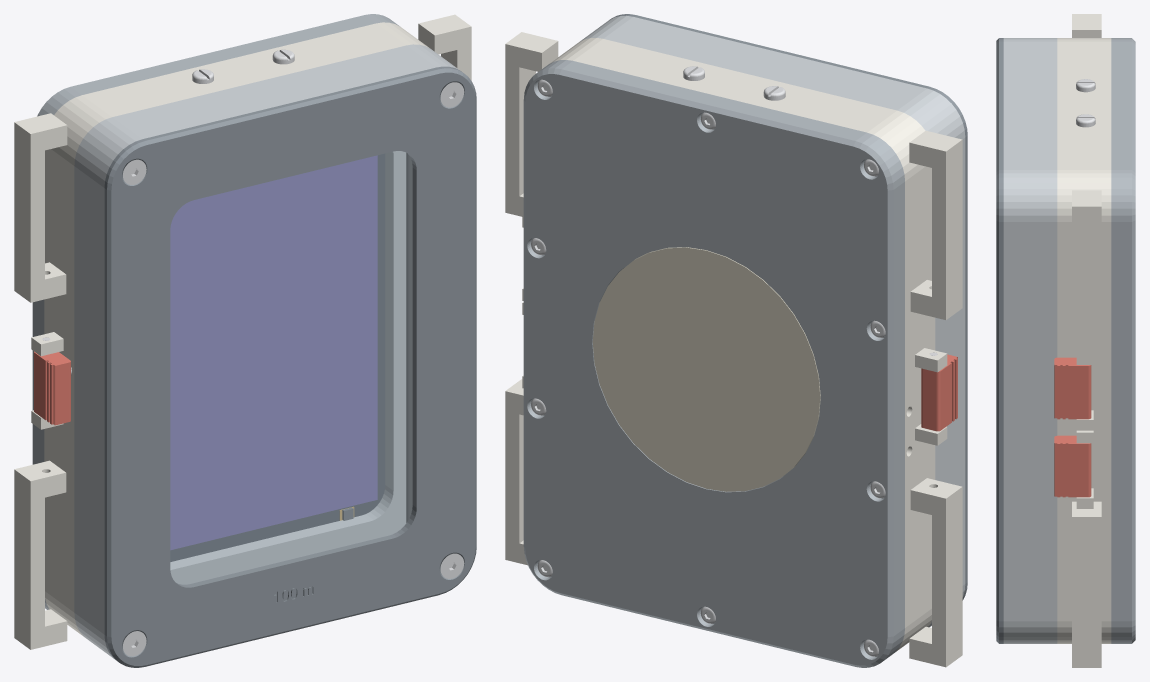
The model's file is dykkecomputer-revb3.glb.
The picture shows the model from 3 angles, left to right: view 1: azimuth 30°, elevation 25°; view 2: azimuth 150°, elevation 25°; view 3: azimuth 270°, elevation 25°; orthographic projection. The views are drawn at different scales.
Visible parts, largest first — view 1: dc-bezel, dc-lens, dc-display-active-area, dc-top-ring-al, dc-mid-ring-pom, dc-display-glass, dc-back-plate, dc-oring-lens, dc-button-lever-3; view 2: dc-back-plate, dc-mid-ring-pom, dc-qi-window, dc-top-ring-al, dc-bezel, dc-button-lever-3; view 3: dc-top-ring-al, dc-mid-ring-pom, dc-back-plate, dc-bezel, dc-button-lever-1, dc-button-lever-2, dc-wet-contact-screw-2, dc-wet-contact-screw-1.
Part boxes in pixels (box(x1,y1,x2,y2)): dc-bezel: box(104, 66, 476, 667); dc-lens: box(170, 151, 412, 584); dc-display-active-area: box(170, 155, 377, 549); dc-top-ring-al: box(74, 44, 459, 658); dc-mid-ring-pom: box(14, 14, 471, 649); dc-display-glass: box(170, 153, 385, 561); dc-back-plate: box(32, 14, 398, 609); dc-oring-lens: box(406, 153, 412, 522); dc-button-lever-3: box(34, 351, 70, 425); dc-back-plate: box(523, 60, 904, 667); dc-mid-ring-pom: box(505, 32, 962, 667); dc-qi-window: box(592, 247, 820, 491); dc-top-ring-al: box(580, 15, 965, 627); dc-bezel: box(610, 14, 967, 600); dc-button-lever-3: box(921, 354, 957, 431); dc-top-ring-al: box(1003, 38, 1057, 643); dc-mid-ring-pom: box(1057, 14, 1111, 667); dc-back-plate: box(1111, 38, 1135, 643); dc-bezel: box(996, 38, 1003, 643); dc-button-lever-1: box(1054, 435, 1091, 497); dc-button-lever-2: box(1054, 357, 1091, 419); dc-wet-contact-screw-2: box(1076, 114, 1095, 127); dc-wet-contact-screw-1: box(1076, 79, 1095, 92).
Size of the model in its own units: 0.093 by 0.1073 by 0.0285.
